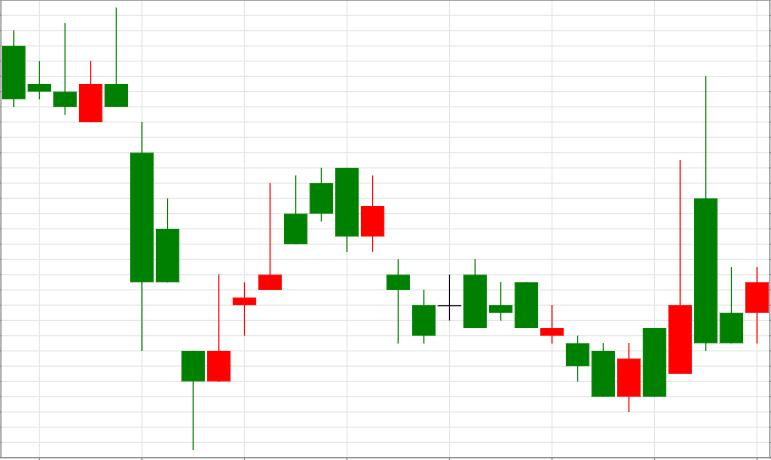hammer_rise: (2, 6, 205, 450)
